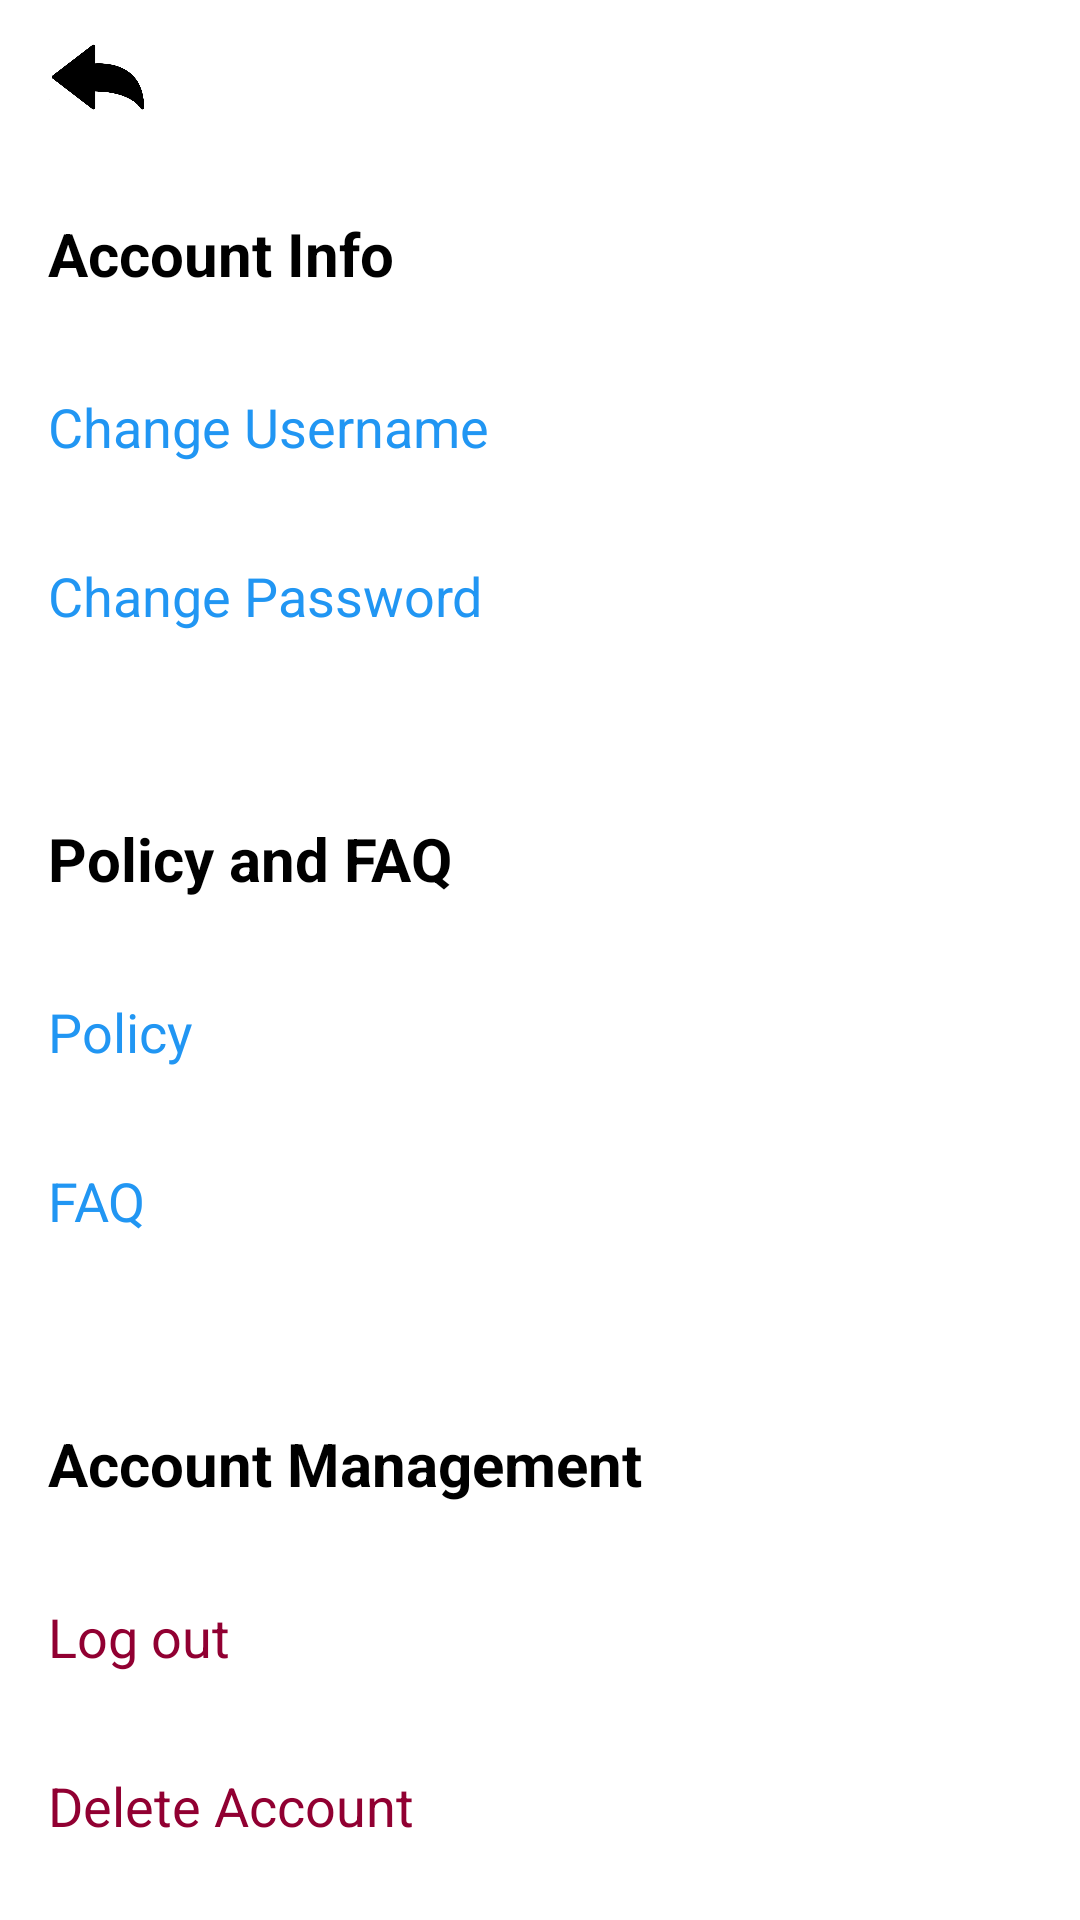

Point at icon controls on the screen. Image size 1080px x 1920px, points as (x=x, y=y).
back: (x=98, y=77)
